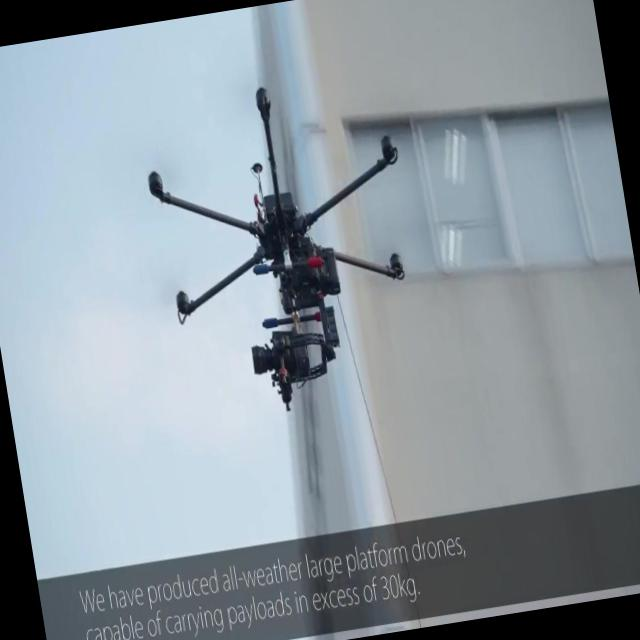drone: (136, 63, 440, 430)
